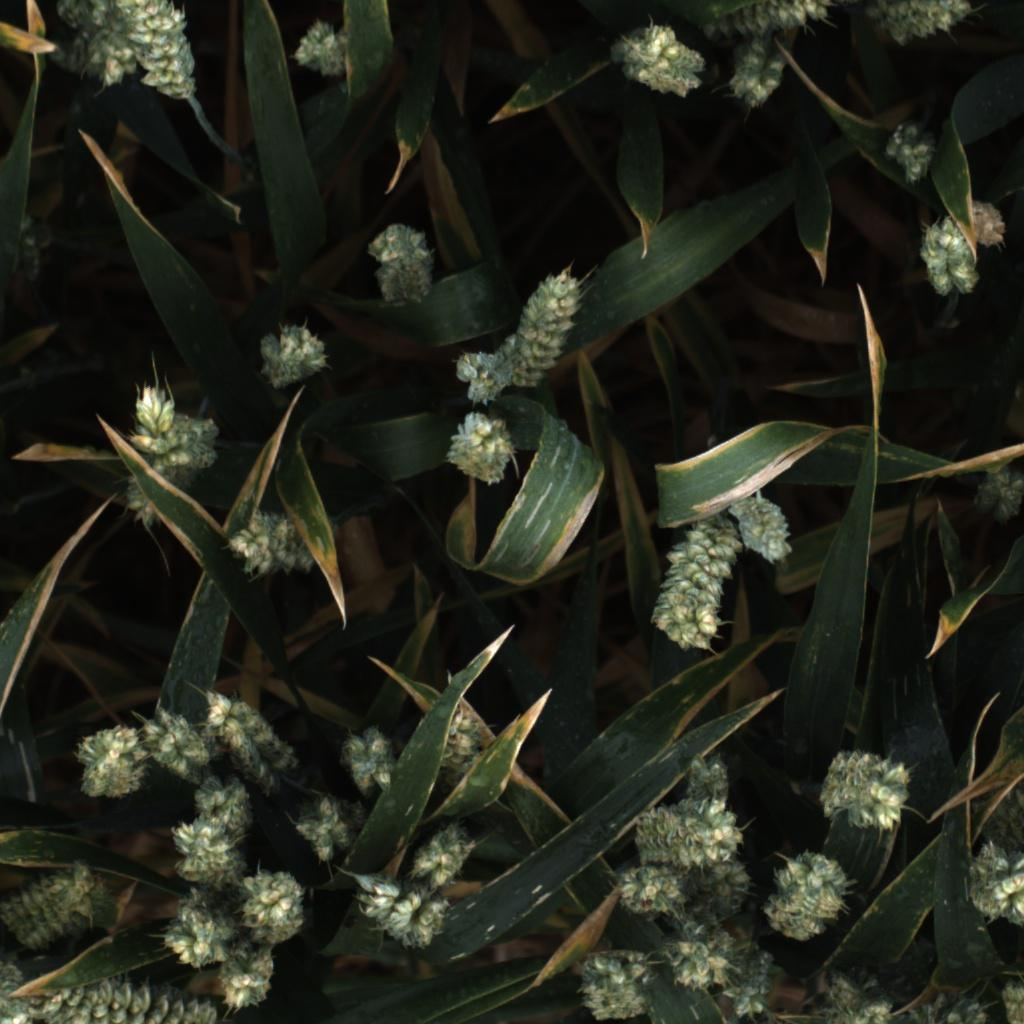0-0: (114, 374, 220, 525), (649, 512, 741, 657), (202, 684, 307, 794), (0, 858, 112, 945), (506, 266, 585, 387), (39, 0, 137, 89), (768, 851, 862, 943), (816, 747, 919, 830), (351, 870, 451, 952), (607, 11, 704, 93), (41, 979, 216, 1024), (412, 691, 492, 788), (637, 798, 742, 869), (363, 215, 441, 309), (119, 0, 193, 98), (674, 854, 762, 936), (228, 500, 312, 580), (569, 947, 655, 1024), (69, 719, 149, 801), (140, 697, 214, 782), (442, 406, 519, 486), (162, 890, 236, 973), (239, 864, 319, 940), (732, 477, 798, 567), (912, 209, 979, 297), (252, 321, 334, 391), (440, 344, 522, 413), (664, 921, 738, 997), (172, 808, 244, 886), (673, 740, 743, 819), (868, 0, 974, 52), (717, 937, 784, 1019), (282, 791, 358, 863), (964, 844, 1024, 932), (607, 859, 689, 923), (723, 43, 792, 119), (408, 813, 478, 887), (178, 775, 252, 842), (817, 963, 897, 1024), (282, 12, 350, 83), (706, 0, 834, 36), (214, 938, 274, 1014), (335, 718, 399, 788), (876, 117, 938, 187), (951, 191, 1013, 260), (970, 461, 1024, 528), (911, 983, 999, 1024), (0, 954, 48, 1024)
